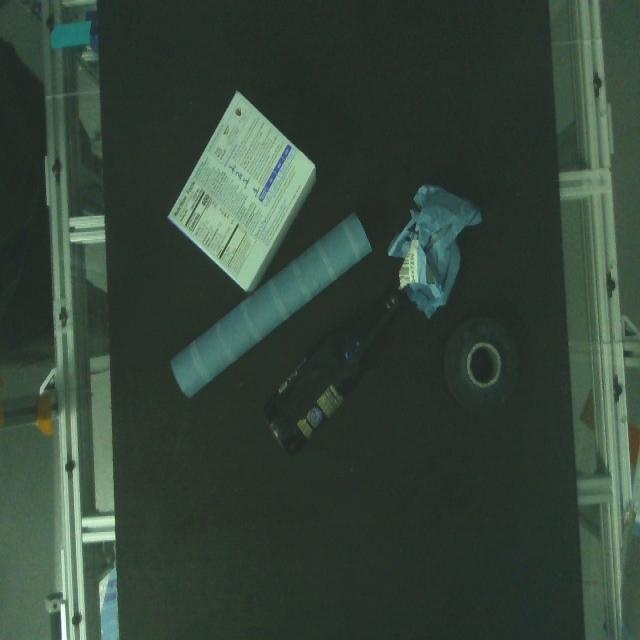non-paper: (256, 280, 412, 459), (442, 314, 521, 417)
paper: (165, 207, 376, 403), (163, 86, 319, 295), (384, 180, 485, 322)
